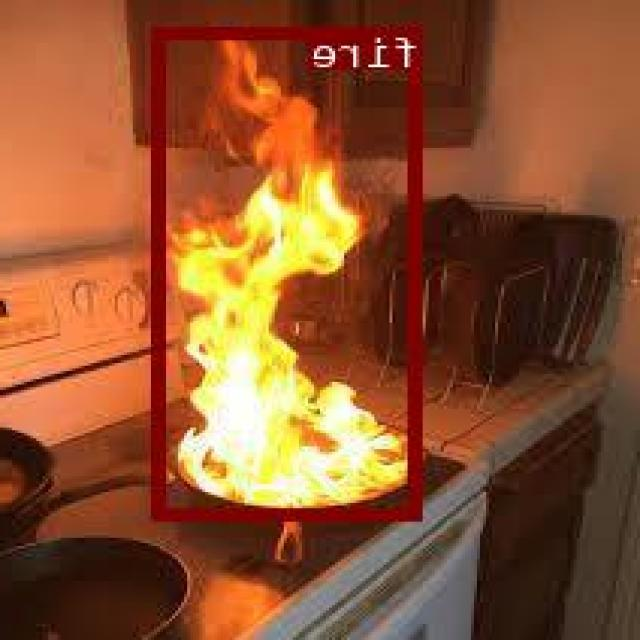fire: (155, 25, 425, 516)
